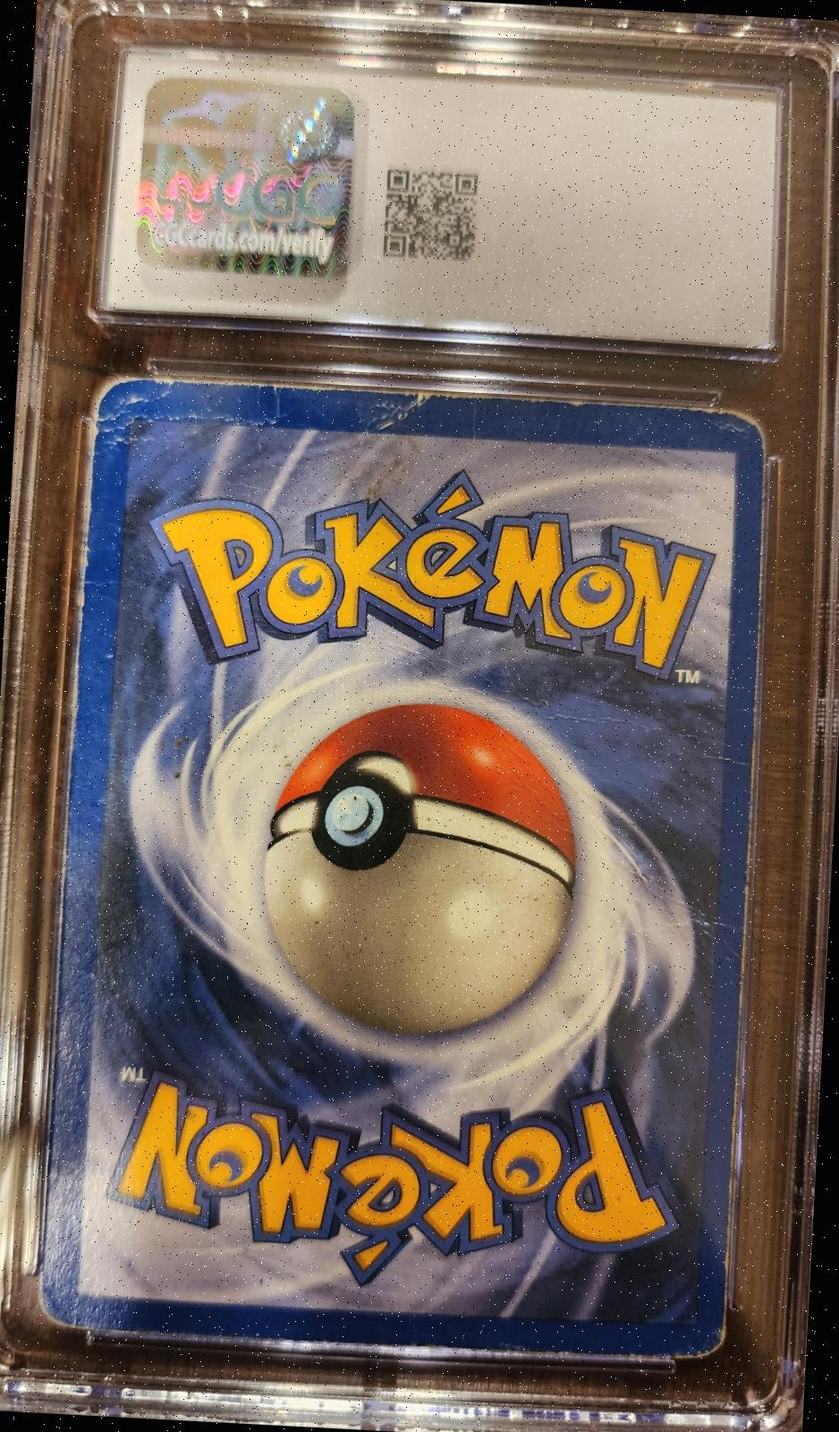card-2UtV: (37, 372, 768, 1361)
